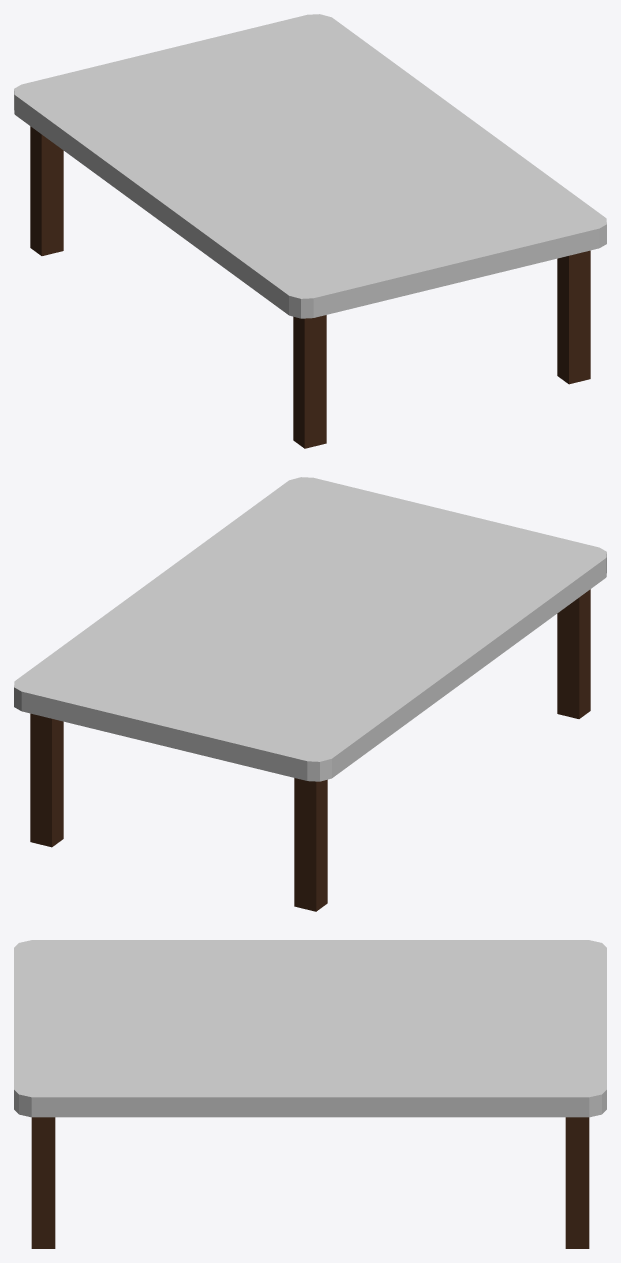
File: Table_Coffee.fbx
3 views of the same model, one above another, from view 1: azimuth 30°, elevation 25°; view 2: azimuth 150°, elevation 25°; view 3: azimuth 270°, elevation 25° (orthographic).
Parts seen in each view (by area): view 1: Cube; view 2: Cube; view 3: Cube.
Boxes of the visible parts, <box> form: Cube: <box>14,14,606,448</box>; Cube: <box>14,477,606,911</box>; Cube: <box>14,940,606,1248</box>.
Size of the model in its own units: 168 by 79.4 by 268.
